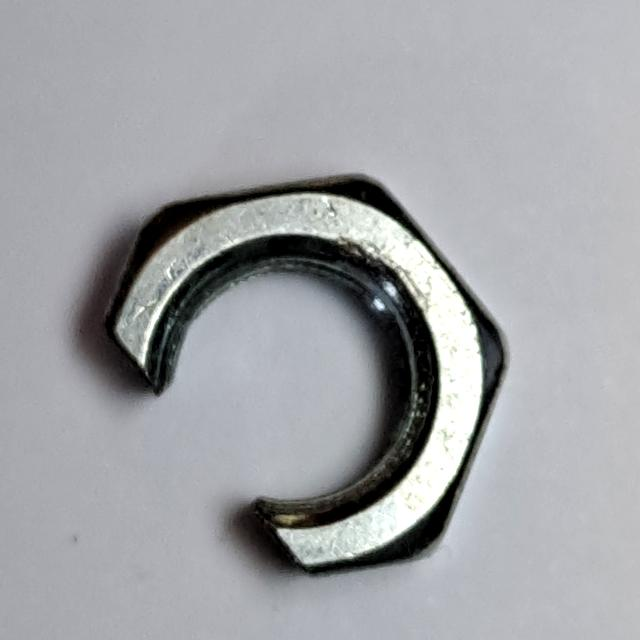Fracture: (93, 152, 519, 594)
